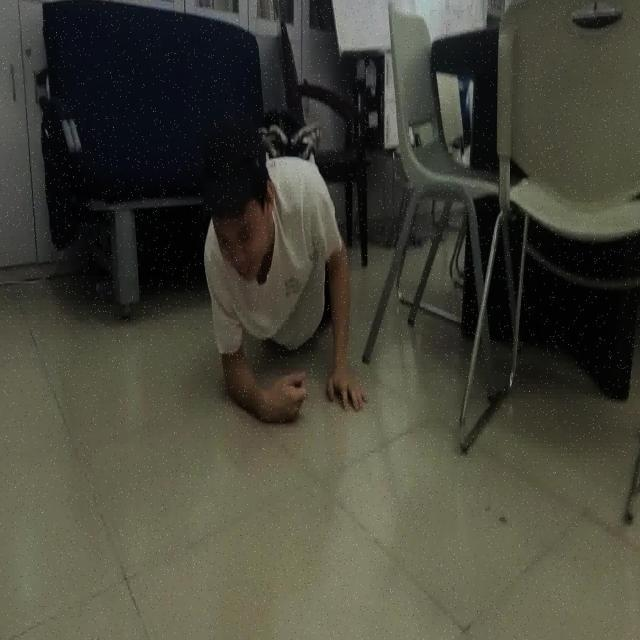fall: (202, 126, 370, 426)
